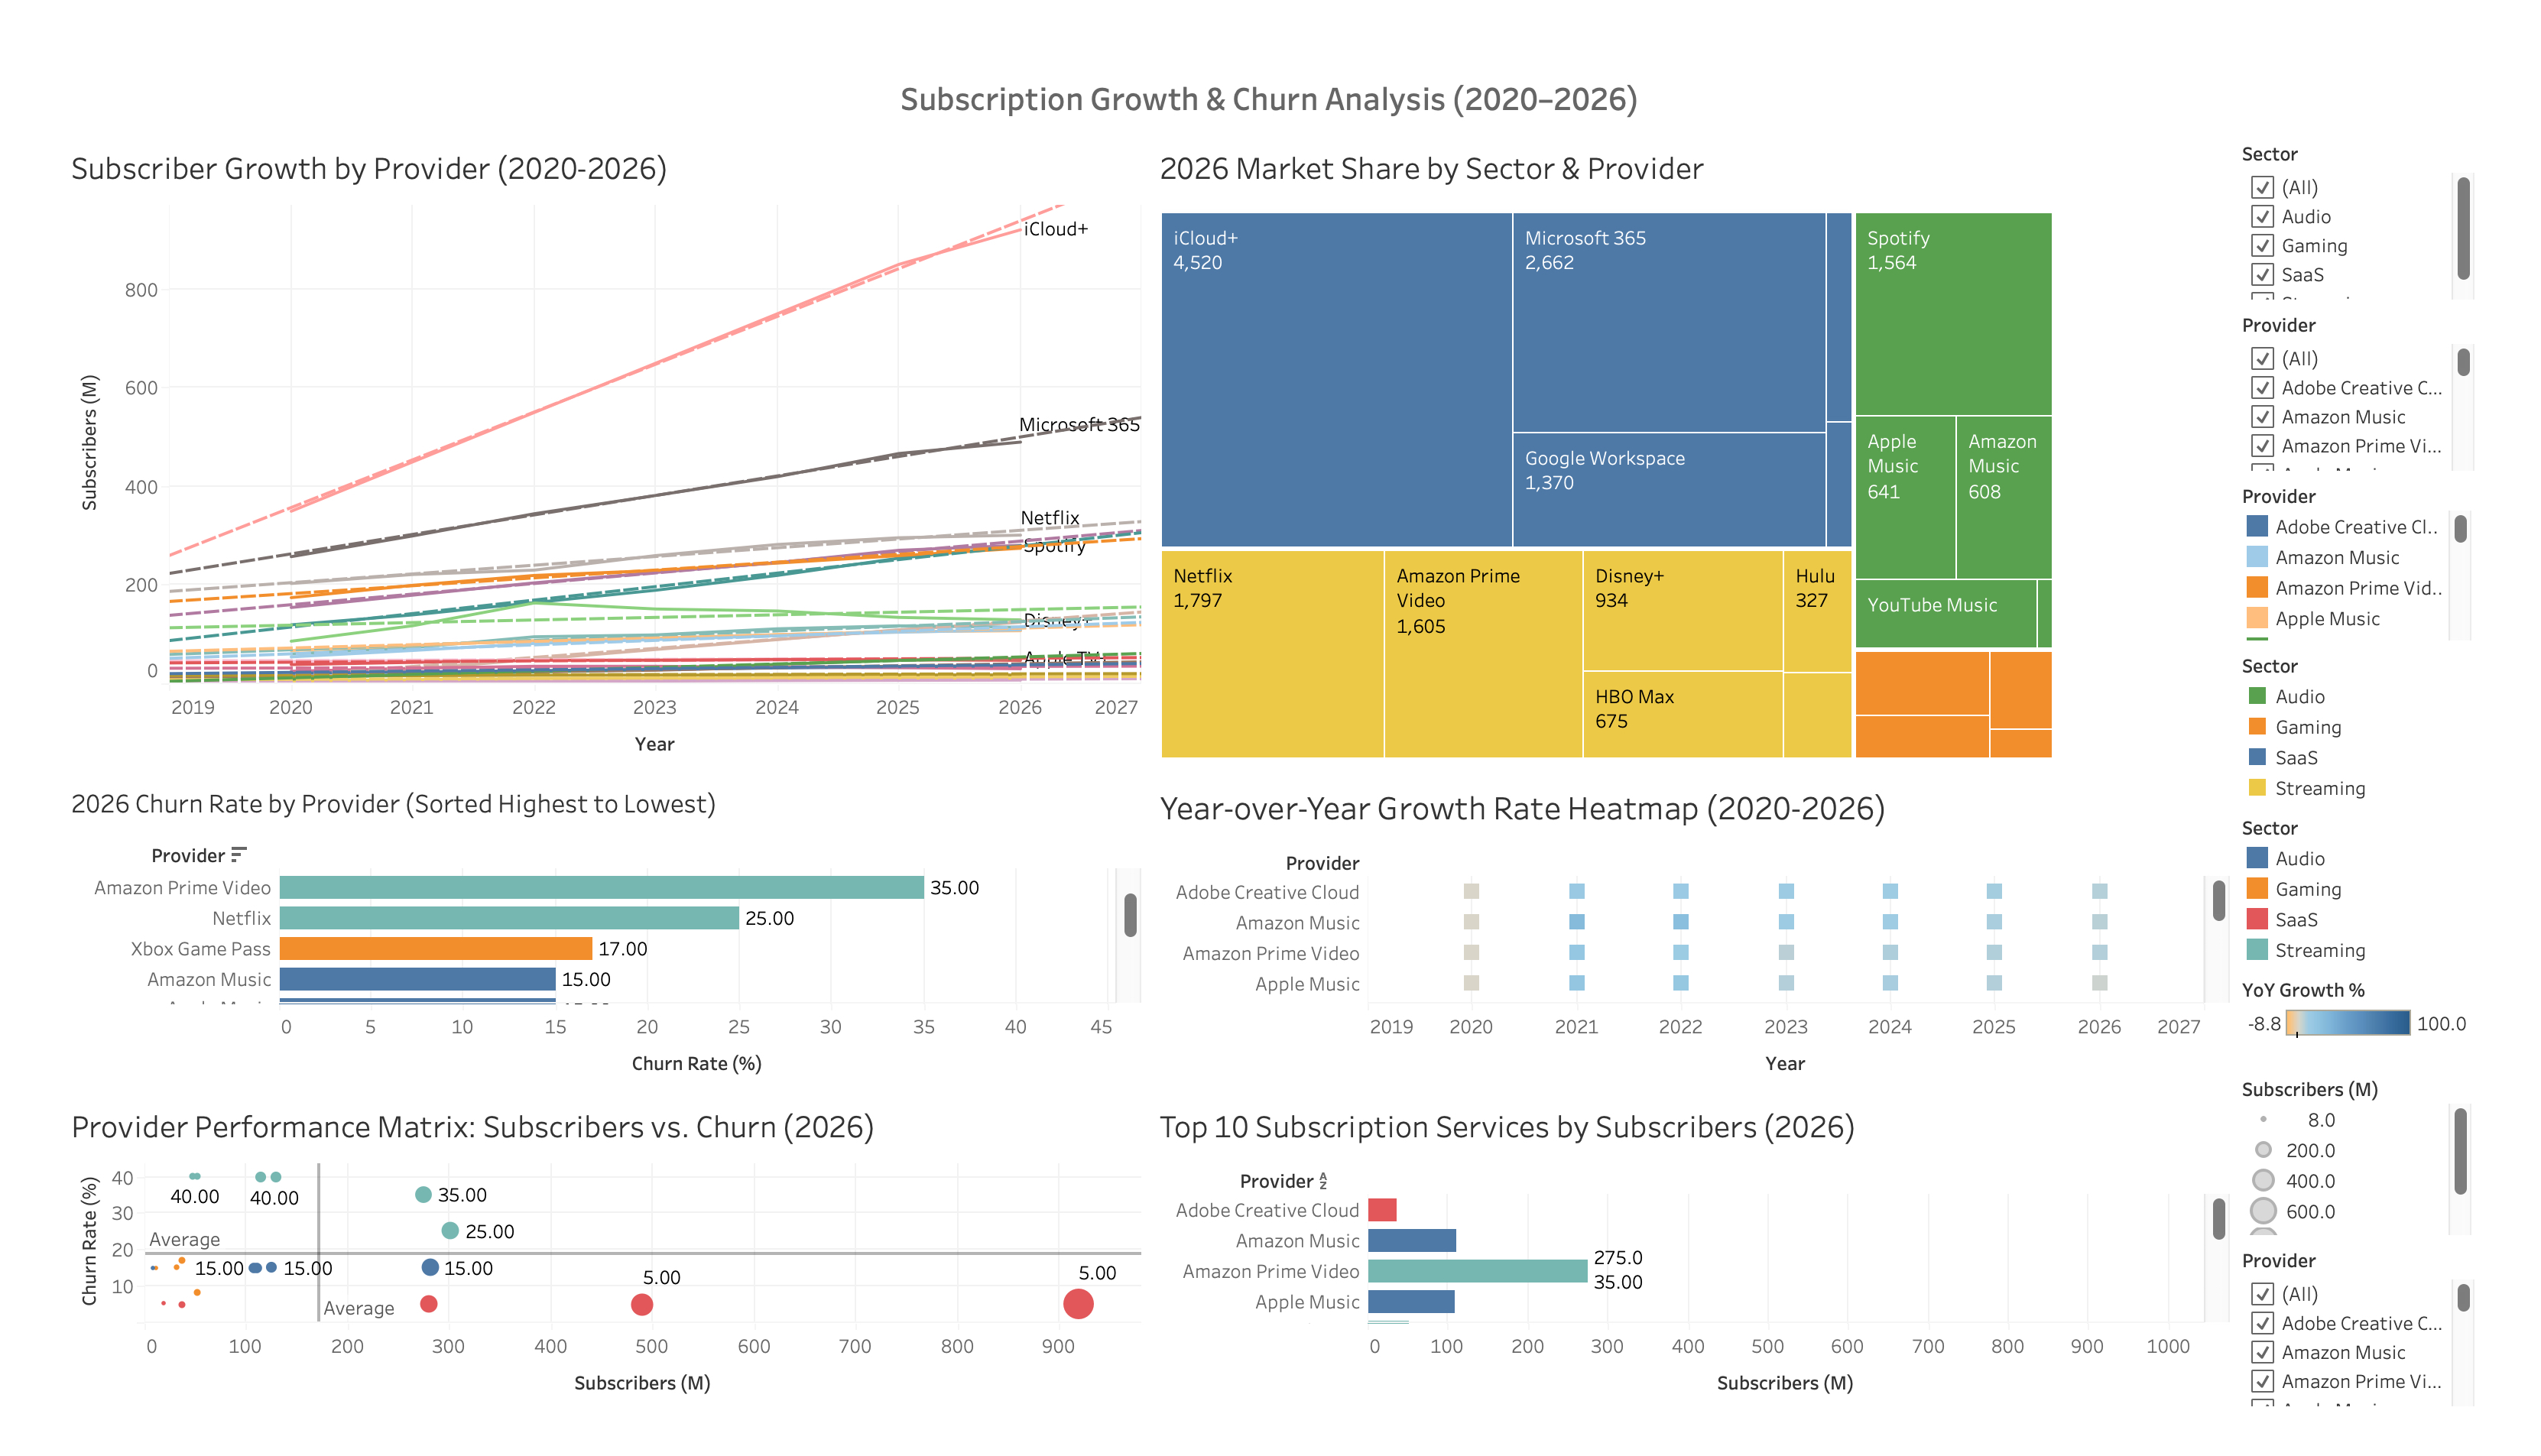

Layout of this report page (visuals, bound fields, positions):
{"tool":"tableau","page":{"name":"Subscription Growth & Churn (2020–2026)","canvas":[1600,900],"ordinal":0},"visuals":[{"type":"text","box":[8,8,1584,48]},{"type":"worksheet","title":"Subscriber Growth Timeline","mark":"Automatic","rows":["Subscribers (M)"],"cols":["Year"],"box":[8,56,712,418]},{"type":"worksheet","title":"2026 Market Share","mark":"Automatic","box":[720,56,712,418]},{"type":"filter","title":"Subscriber Growth Timeline","param":"[federated.0z4v0hi1gob12i1g1s2o91p3mhxl].[none:Sector:nk]","box":[1432,56,160,111.8]},{"type":"filter","title":"Subscriber Growth Timeline","param":"[federated.0z4v0hi1gob12i1g1s2o91p3mhxl].[none:Provider:nk]","box":[1432,167.8,160,111.8]},{"type":"legend","title":"Subscriber Growth Timeline","param":"[federated.0z4v0hi1gob12i1g1s2o91p3mhxl].[none:Provider:nk]","box":[1432,279.6,160,111.8]},{"type":"legend","title":"2026 Market Share","param":"[federated.0z4v0hi1gob12i1g1s2o91p3mhxl].[none:Sector:nk]","box":[1432,391.4,160,106]},{"type":"worksheet","title":"Churn Rate Analysis","mark":"Bar","rows":["Provider"],"cols":["Churn Rate (%)"],"box":[8,474,712,209]},{"type":"worksheet","title":"YoY Growth Heatmap","mark":"Square","rows":["Provider"],"cols":["Year"],"box":[720,474,712,209]},{"type":"legend","title":"Churn Rate Analysis","param":"[federated.0j3mnjd0alx9em17s4jg90gh2235].[none:Sector:nk]","box":[1432,497.4,160,106]},{"type":"legend","title":"YoY Growth Heatmap","param":"[federated.0z4v0hi1gob12i1g1s2o91p3mhxl].[sum:YoY Growth %:qk]","box":[1432,603.4,160,65]},{"type":"legend","title":"Performance Matrix","param":"[federated.0j3mnjd0alx9em17s4jg90gh2235].[sum:Subscribers (M):qk]","box":[1432,668.4,160,111.8]},{"type":"worksheet","title":"Performance Matrix","mark":"Circle","rows":["Churn Rate (%)"],"cols":["Subscribers (M)"],"box":[8,683,712,209]},{"type":"worksheet","title":"Top 10 Providers","mark":"Bar","rows":["Provider"],"cols":["Subscribers (M)"],"box":[720,683,712,209]},{"type":"filter","title":"Top 10 Providers","param":"[federated.0j3mnjd0alx9em17s4jg90gh2235].[none:Provider:nk]","box":[1432,780.2,160,111.8]}]}

Visuals, with their boxes in screenshot pixels (x1, y1, x2, y2), scaled from the page's 1600x900 canvas onto the 2541x1456 screenshot:
text: detection(13, 13, 2528, 91)
"Subscriber Growth Timeline" worksheet: detection(13, 91, 1144, 767)
"2026 Market Share" worksheet: detection(1144, 91, 2274, 767)
"Subscriber Growth Timeline" filter: detection(2274, 91, 2528, 271)
"Subscriber Growth Timeline" filter: detection(2274, 271, 2528, 452)
"Subscriber Growth Timeline" legend: detection(2274, 452, 2528, 633)
"2026 Market Share" legend: detection(2274, 633, 2528, 805)
"Churn Rate Analysis" worksheet (Bar marks): detection(13, 767, 1144, 1105)
"YoY Growth Heatmap" worksheet (Square marks): detection(1144, 767, 2274, 1105)
"Churn Rate Analysis" legend: detection(2274, 805, 2528, 976)
"YoY Growth Heatmap" legend: detection(2274, 976, 2528, 1081)
"Performance Matrix" legend: detection(2274, 1081, 2528, 1262)
"Performance Matrix" worksheet (Circle marks): detection(13, 1105, 1144, 1443)
"Top 10 Providers" worksheet (Bar marks): detection(1144, 1105, 2274, 1443)
"Top 10 Providers" filter: detection(2274, 1262, 2528, 1443)
